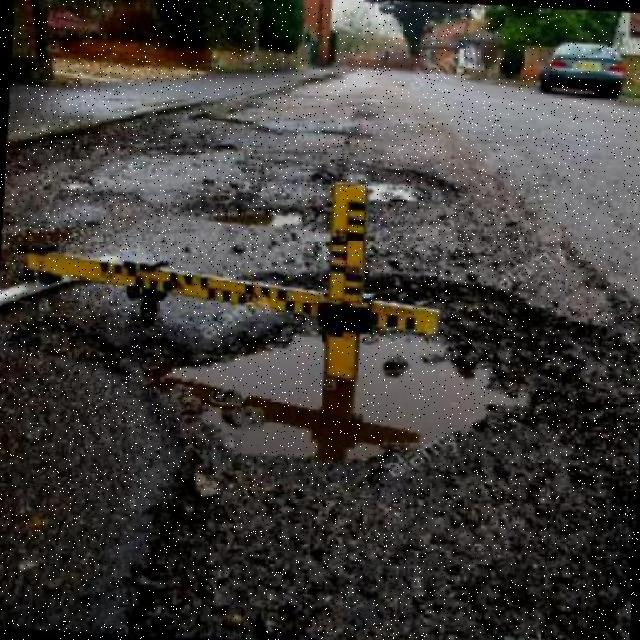pothole: (13, 276, 594, 463), (340, 167, 458, 211), (193, 209, 313, 230), (232, 270, 328, 294)
